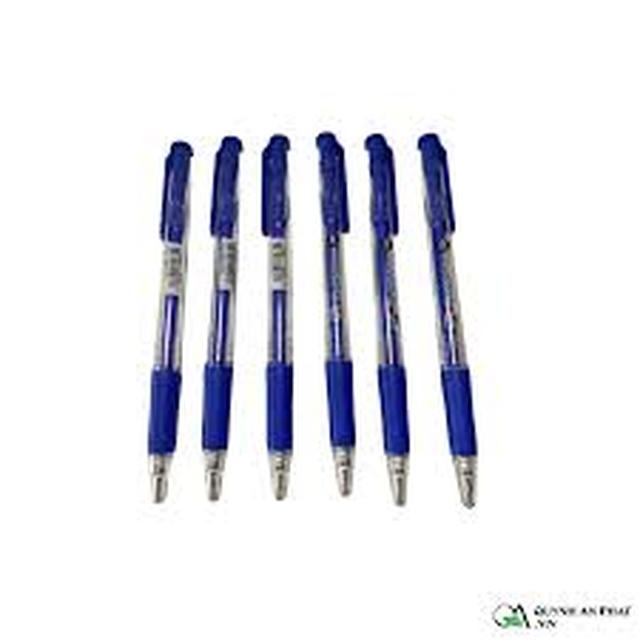pen: (382, 158, 530, 512), (327, 119, 438, 502), (228, 105, 329, 513), (288, 112, 382, 504), (137, 125, 210, 513), (189, 126, 253, 515), (401, 137, 406, 145)
